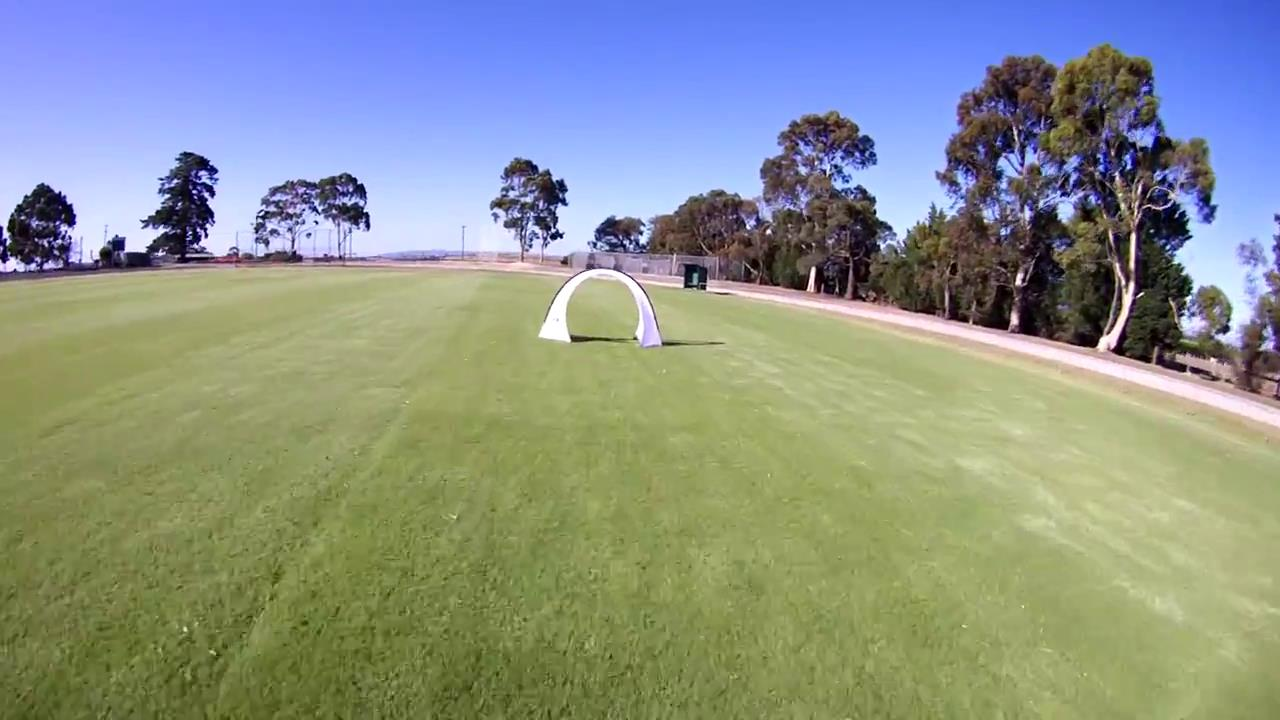gate: (535, 265, 665, 349)
